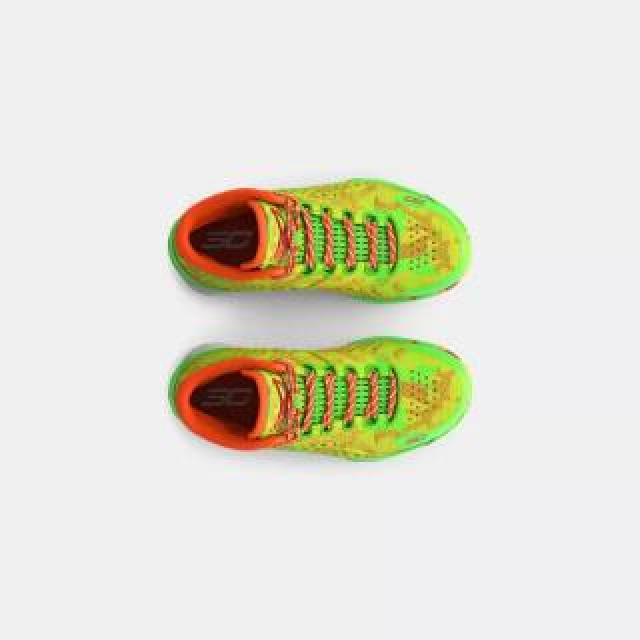shoe: (166, 334, 472, 462), (167, 180, 473, 302)
